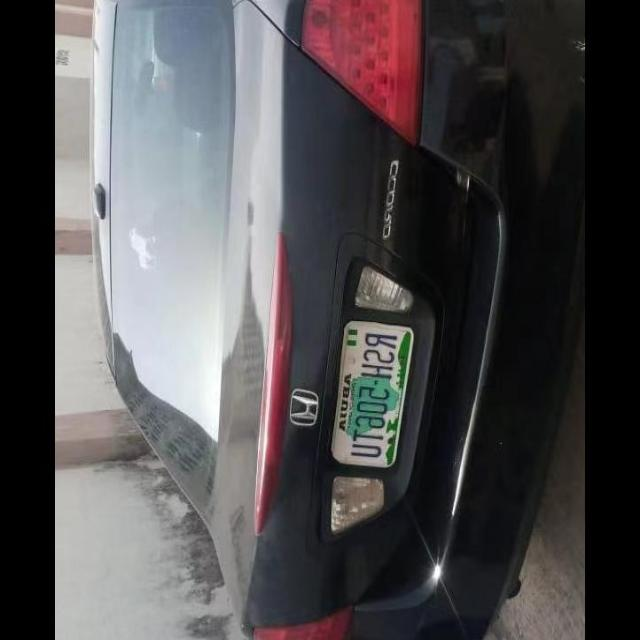Nigerian License Plate - vdataset benjamin-daria: (330, 314, 418, 475)
